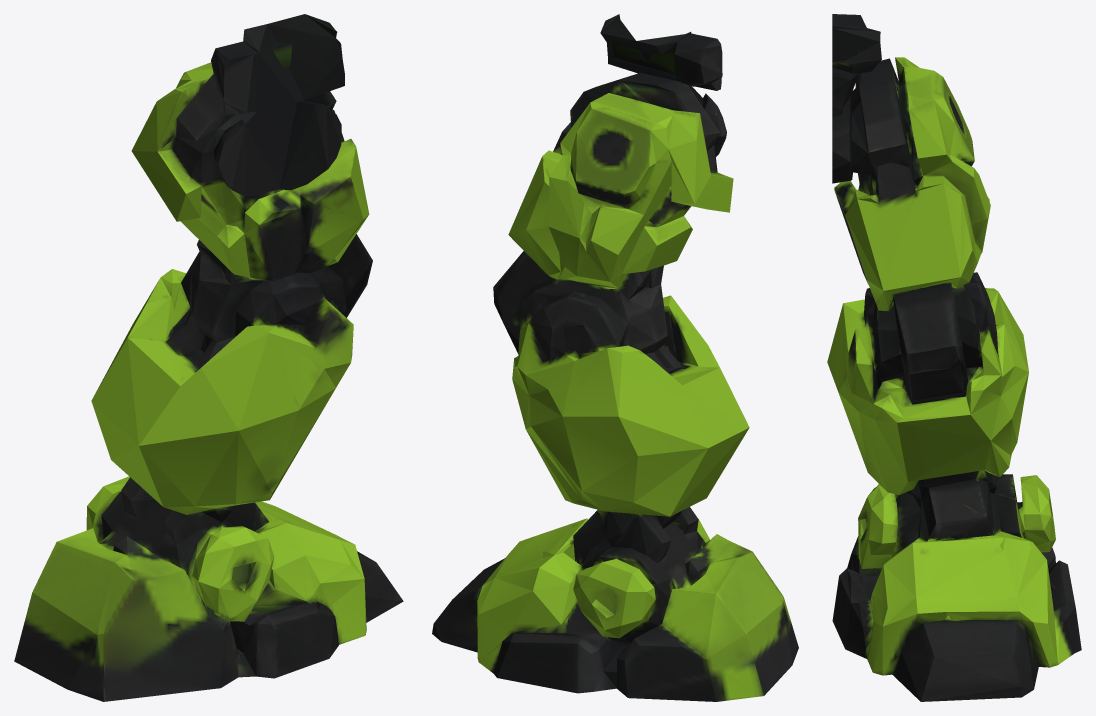
The model's file is SM_ShooterDebris_Leg_L.fbx.
3 views of the same model, side by side, from view 1: azimuth 30°, elevation 25°; view 2: azimuth 150°, elevation 25°; view 3: azimuth 270°, elevation 25° (orthographic). The views are drawn at different scales.
Visible parts, largest first — view 1: SM_ShooterDebris_Leg_L; view 2: SM_ShooterDebris_Leg_L; view 3: SM_ShooterDebris_Leg_L.
Boxes of the visible parts, x1=… form: SM_ShooterDebris_Leg_L: x1=14, y1=14, x2=403, y2=701; SM_ShooterDebris_Leg_L: x1=432, y1=14, x2=798, y2=701; SM_ShooterDebris_Leg_L: x1=827, y1=14, x2=1081, y2=701.
Bounding box in the file's own units: 58.17 × 98.93 × 38.8.
Materials: 1 (1 with a texture image).
